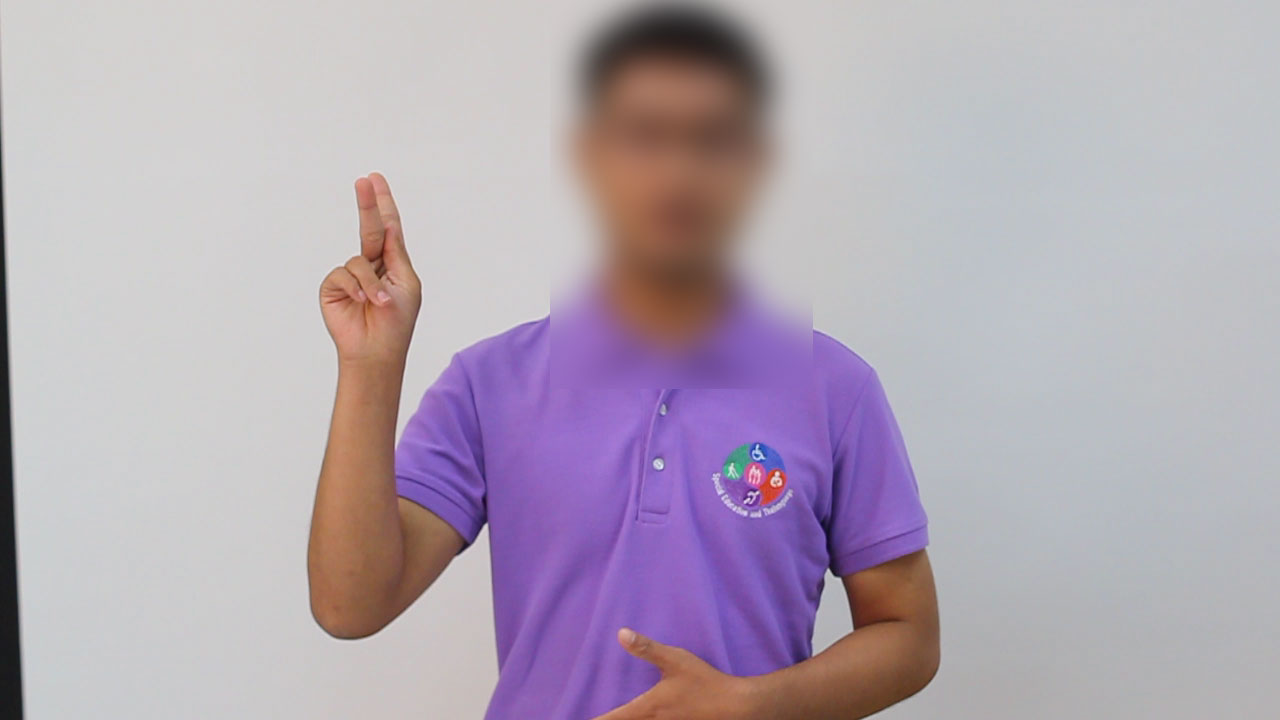ko: (272, 140, 464, 390)
